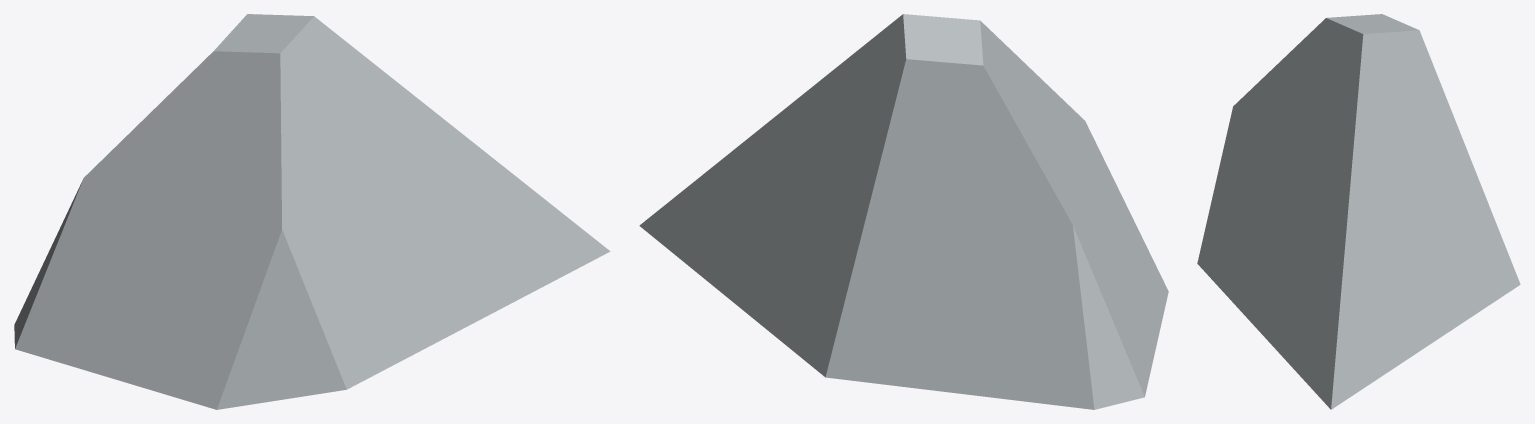
The model's file is maya_export_Mountain2.fbx.
The picture shows the model from 3 angles, left to right: view 1: azimuth 30°, elevation 25°; view 2: azimuth 150°, elevation 25°; view 3: azimuth 270°, elevation 25°; orthographic projection. The views are drawn at different scales.
Parts seen in each view (by area): view 1: Mountain2; view 2: Mountain2; view 3: Mountain2.
Boxes of the visible parts, x1=… form: Mountain2: x1=14, y1=14, x2=610, y2=409; Mountain2: x1=639, y1=14, x2=1168, y2=409; Mountain2: x1=1197, y1=14, x2=1520, y2=409.
Size of the model in its own units: 855 by 433 by 496.
1 material, 1 textured.
